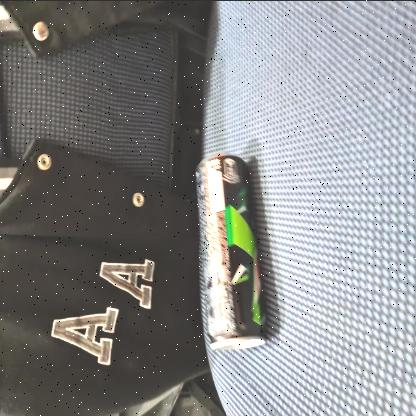Can: (186, 150, 271, 352)
